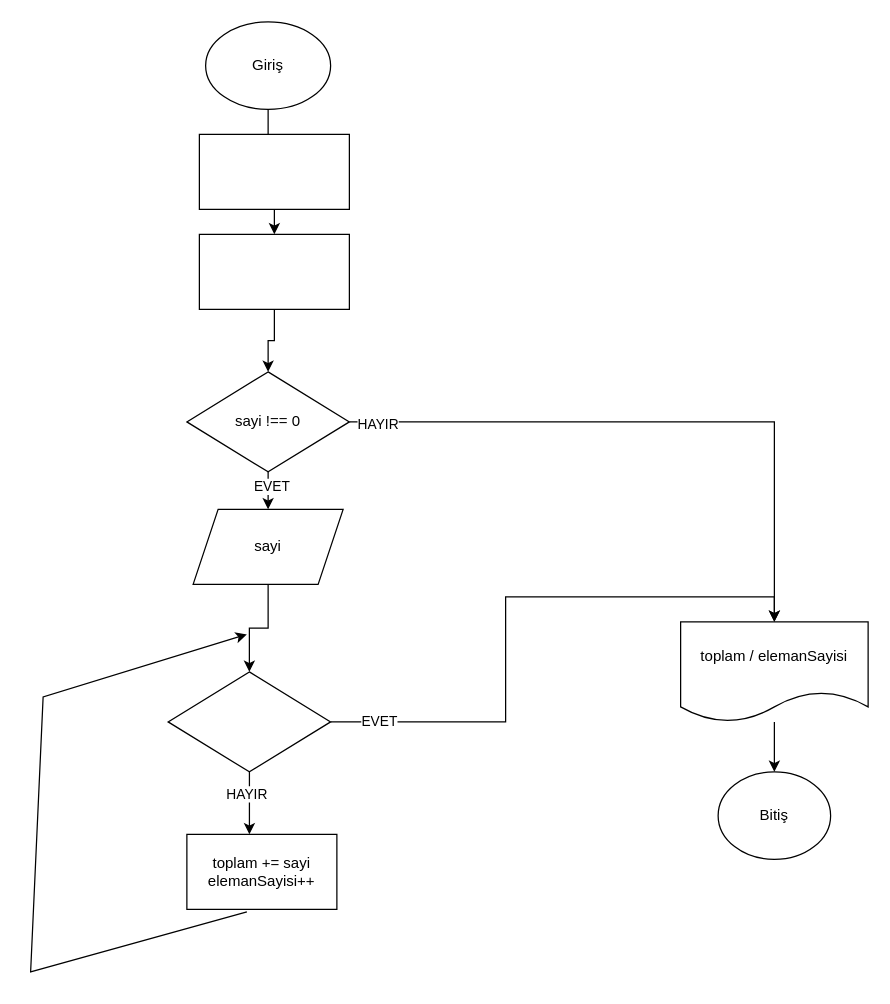
This 890x1004 diagram has some shape labels left out. The shapes that lost their labels are listed below. From the top down, each one's centre as x and y in pixels, then its label:
At (273,171): "sayi = -1".
At (273,271): "elemanSayisi = 0 toplam = 0".
At (249,721): "sayi === 0".
